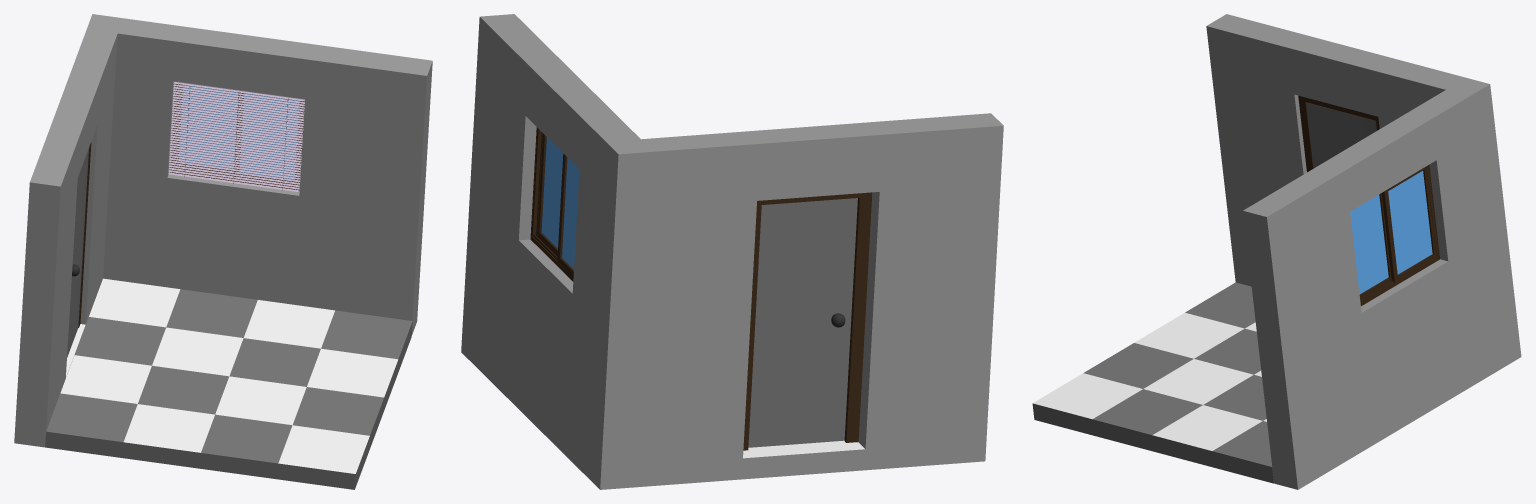
Rendered from room.glb.
3 renders of one model, left to right at view 1: azimuth 30°, elevation 25°; view 2: azimuth 150°, elevation 25°; view 3: azimuth 270°, elevation 25°, orthographic. The views are drawn at different scales.
Parts seen in each view (by area): view 1: Kitchen; view 2: Kitchen; view 3: Kitchen.
Part boxes in pixels (x1,y1,x2,y2): Kitchen: (14, 14, 432, 489); Kitchen: (461, 14, 1003, 489); Kitchen: (1032, 14, 1521, 489).
Bounding box in the file's own units: 3.1 × 2.23 × 3.1.
1 material, 1 textured.
